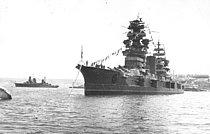Ship: (75, 42, 191, 95)
